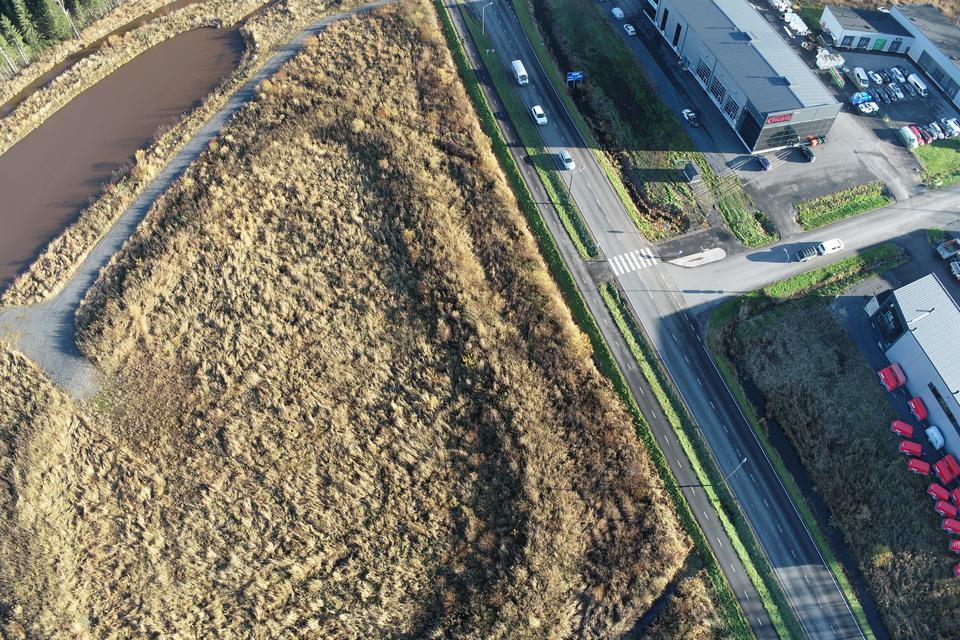intersection: (524, 216, 765, 361)
